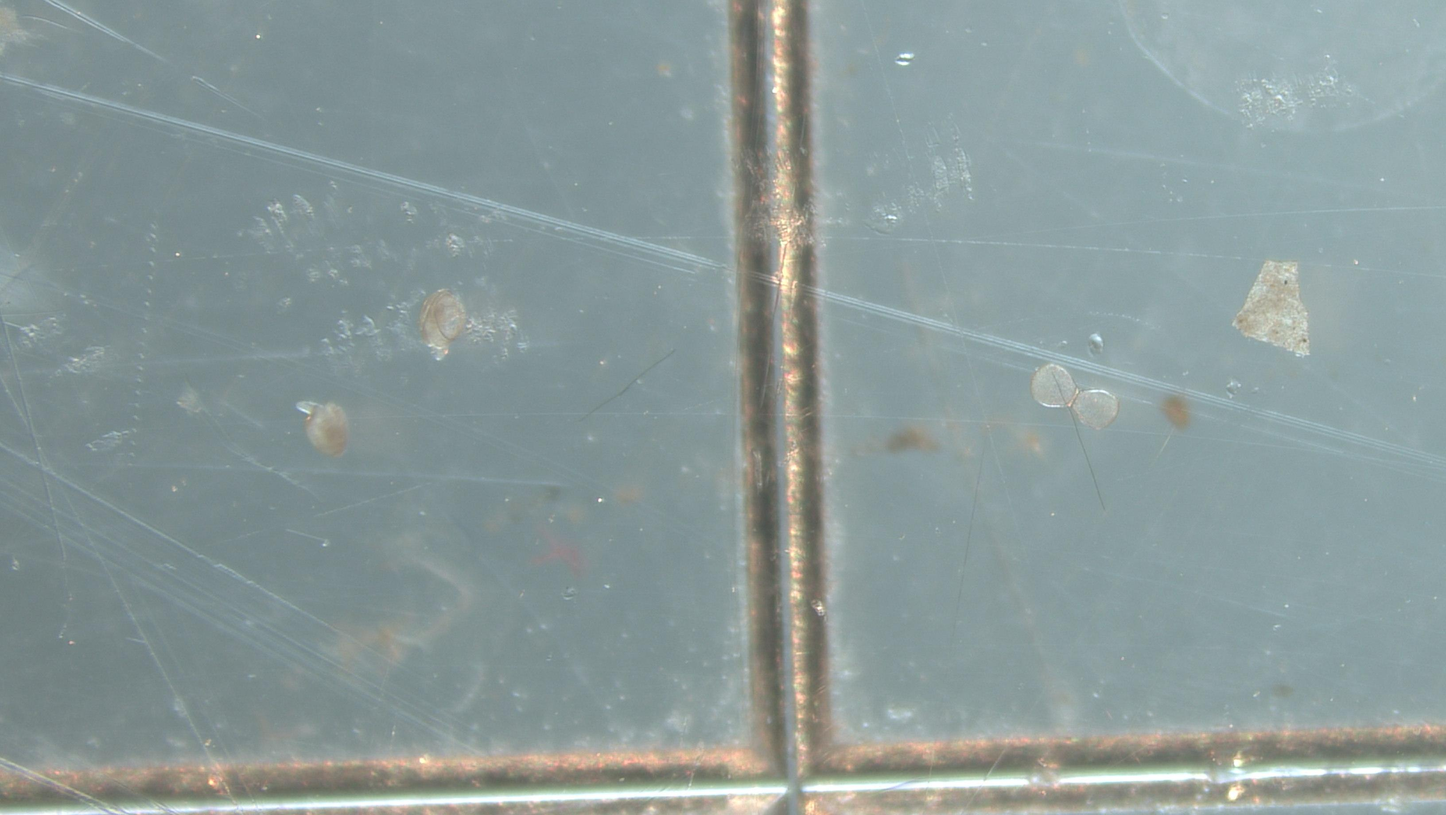dead: (1030, 364, 1079, 408), (1070, 390, 1120, 430)
live: (296, 401, 348, 457)
